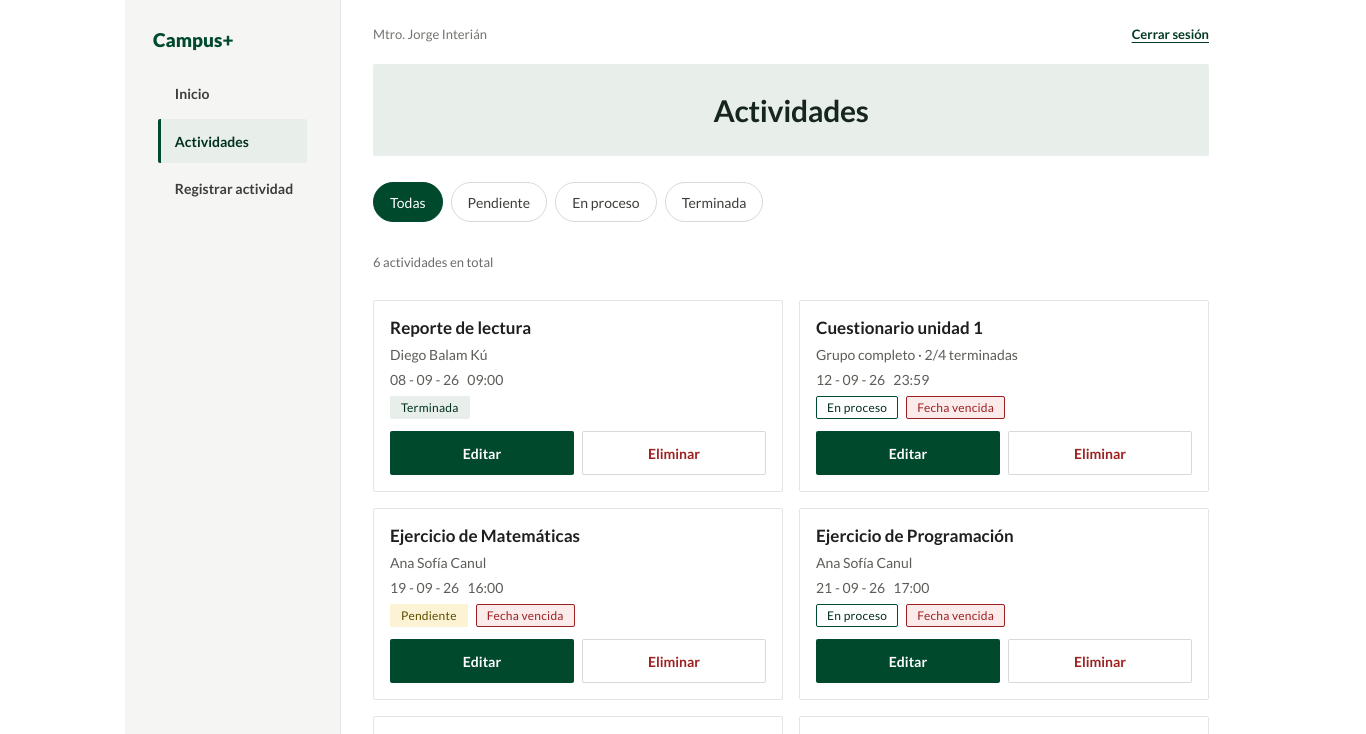
Test: Flujo del profesor › cancelar el diálogo no elimina
Click the 1st button "Eliminar".
click(674, 453)  # box x1=582 y1=431 x2=766 y2=475
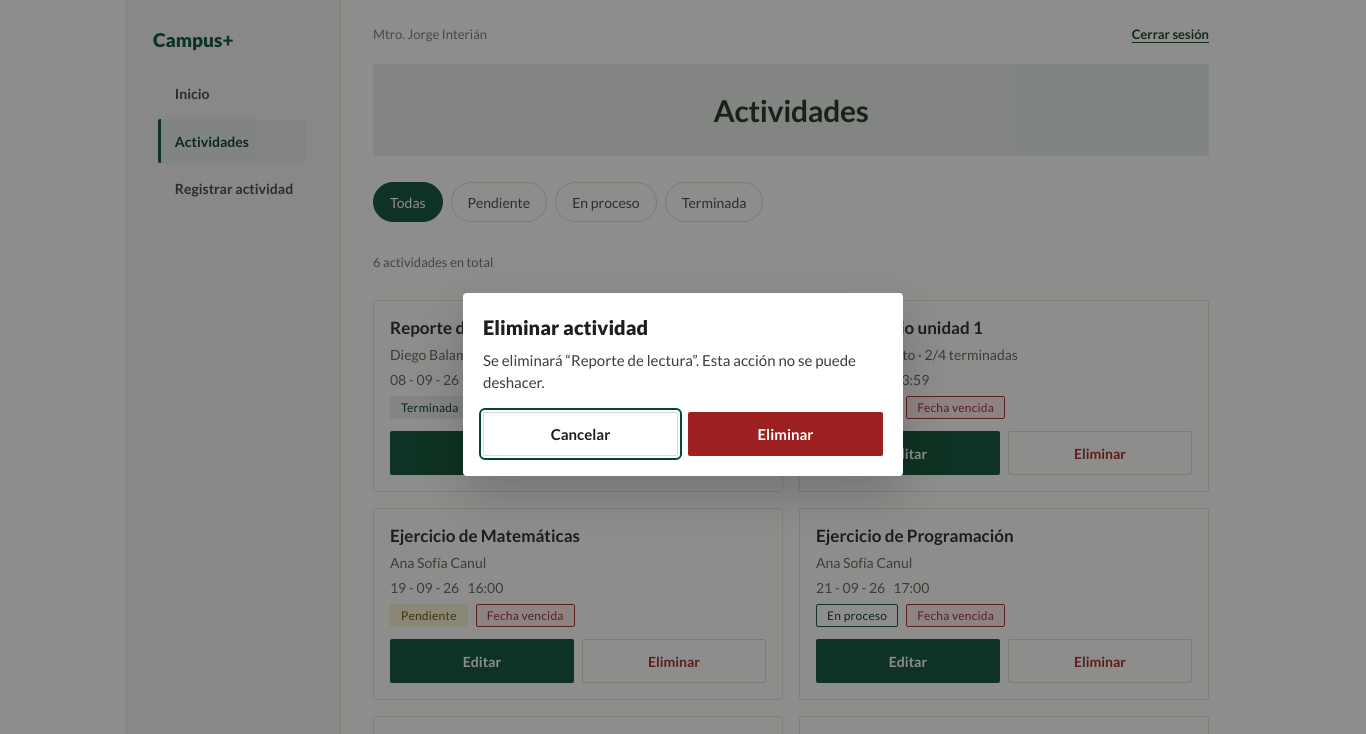
Click the button "Cancelar".
click(580, 434)  # box x1=483 y1=412 x2=678 y2=456
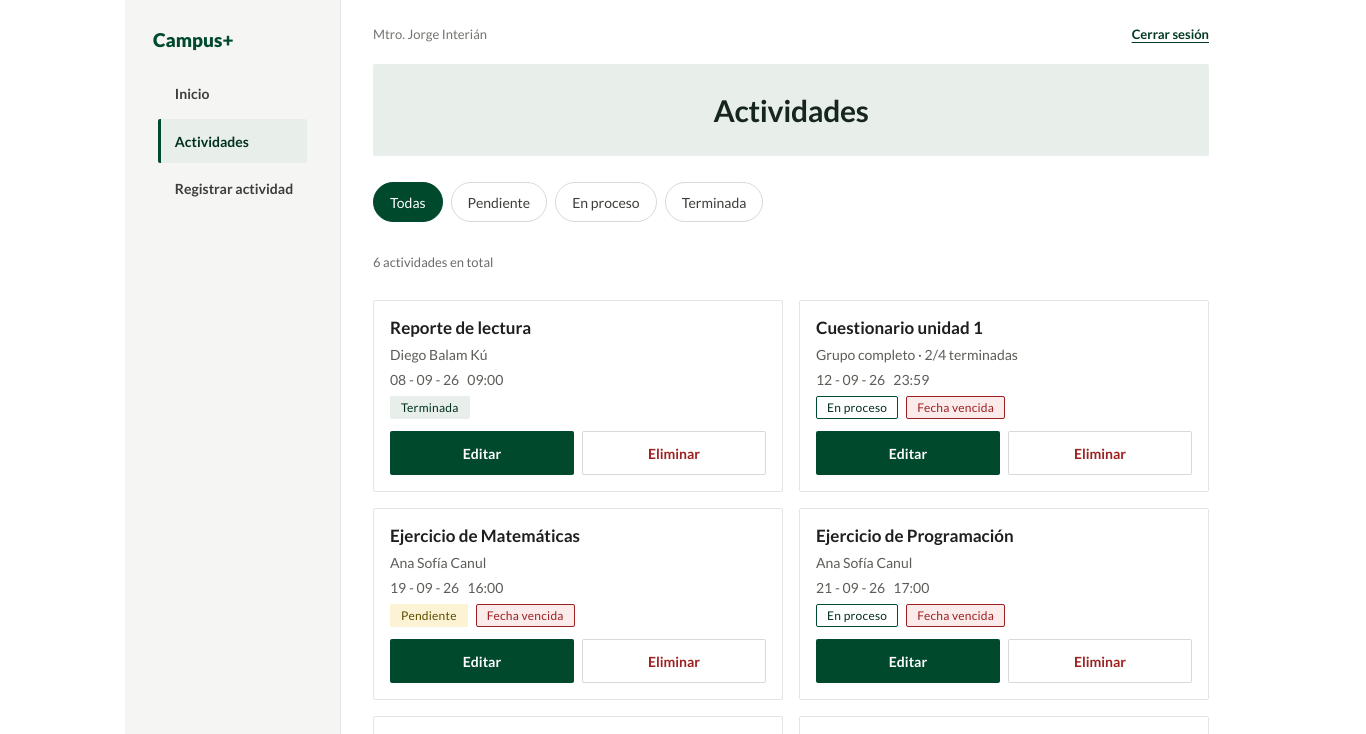
Expected: the text "Reporte de lectura" is shown, x1=390 y1=317 x2=531 y2=338
Now the dialog is gone
